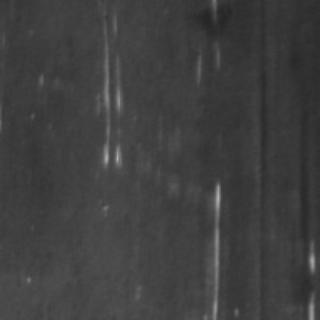inclusion: (254, 7, 310, 312)
scratches: (92, 12, 128, 166), (202, 172, 228, 318)
